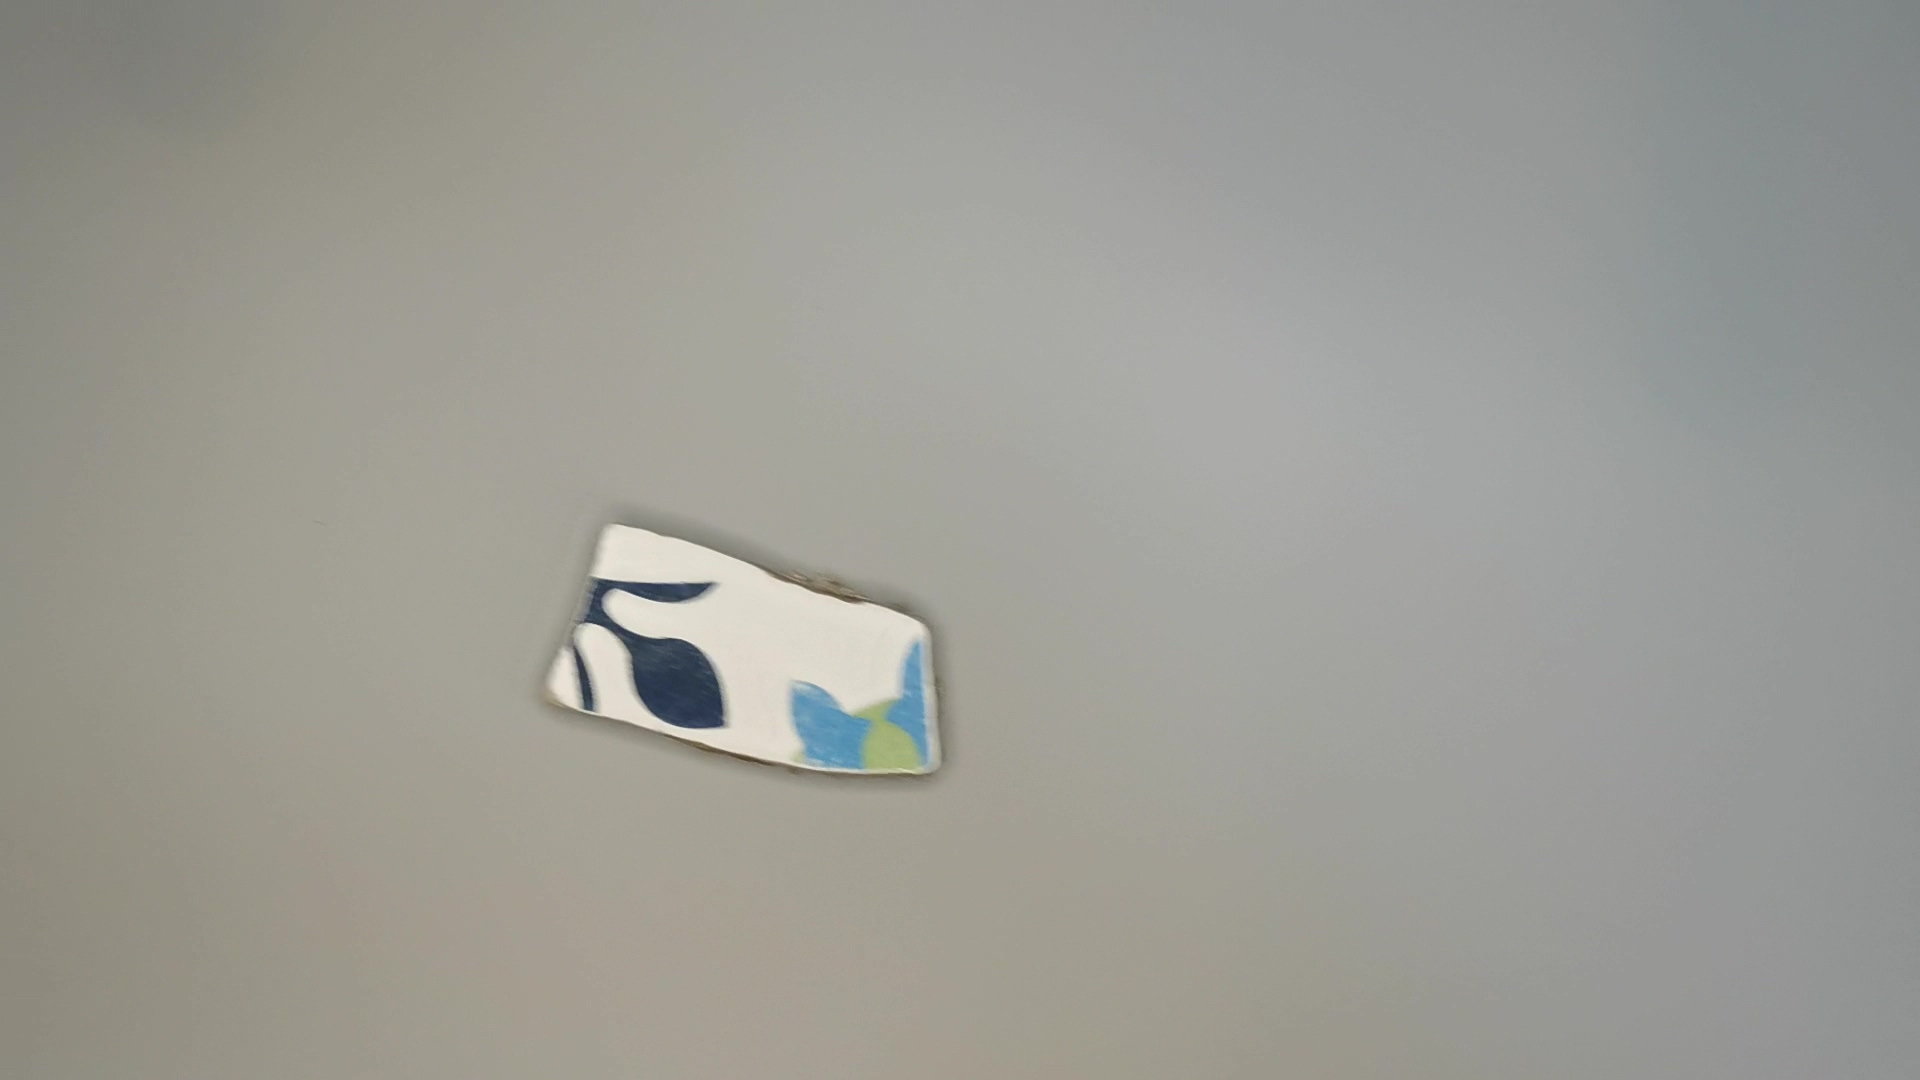ceramic: (538, 513, 949, 786)
